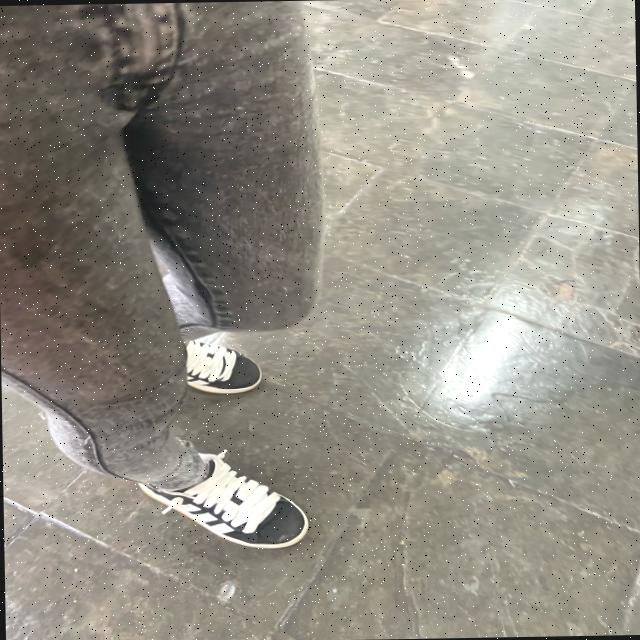SEM BOTA: (116, 446, 313, 551), (165, 345, 266, 396)
